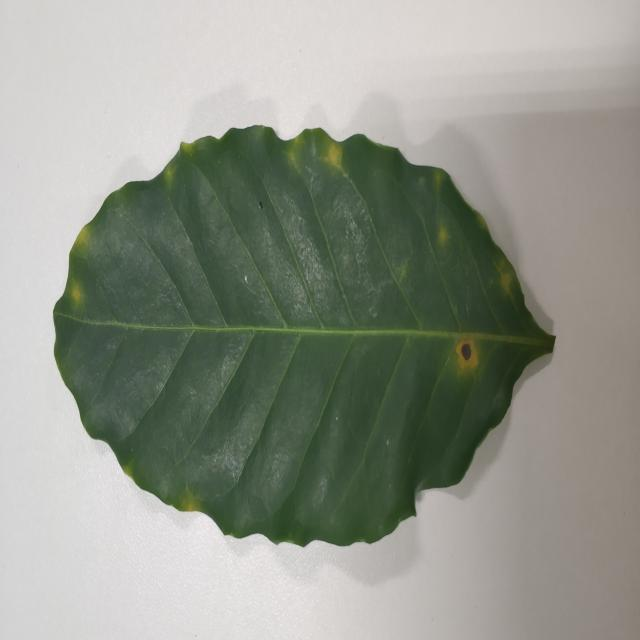Enfermedad-Roya: (52, 126, 556, 550)
